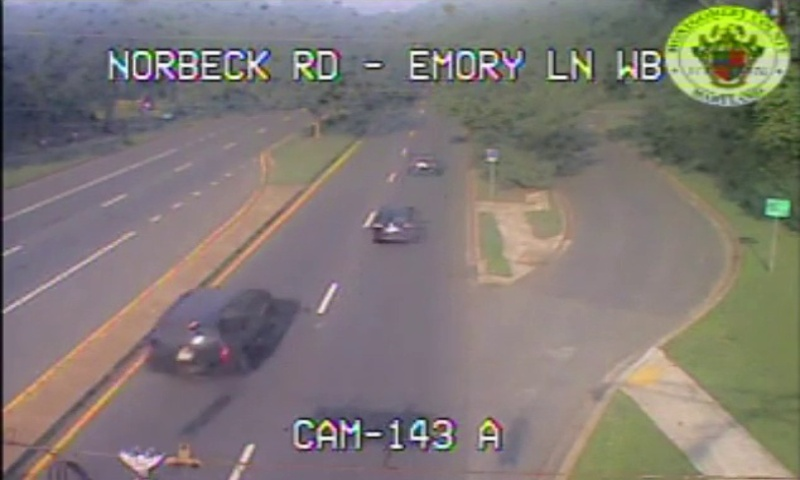car: (150, 286, 273, 371), (372, 206, 418, 243), (406, 154, 436, 174)
